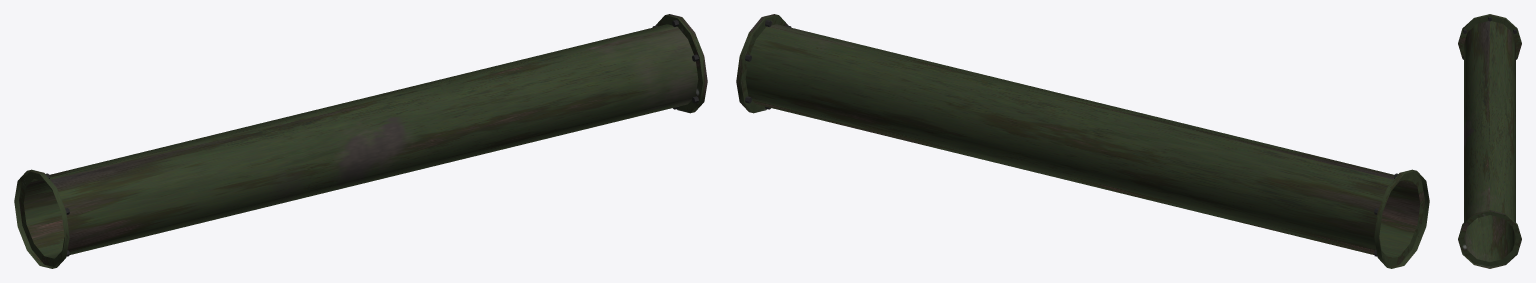
File: Pipe_Long.fbx
3 renders of one model, left to right at view 1: azimuth 30°, elevation 25°; view 2: azimuth 150°, elevation 25°; view 3: azimuth 270°, elevation 25°, orthographic. The views are drawn at different scales.
Parts seen in each view (by area): view 1: Long; view 2: Long; view 3: Long.
Boxes of the visible parts, box(x1,y1,x2,y2) form: Long: box(14, 14, 707, 268); Long: box(736, 14, 1429, 268); Long: box(1458, 14, 1521, 268).
Size of the model in its own units: 17.92 by 2.45 by 2.45.
Materials: 1 (1 with a texture image).
